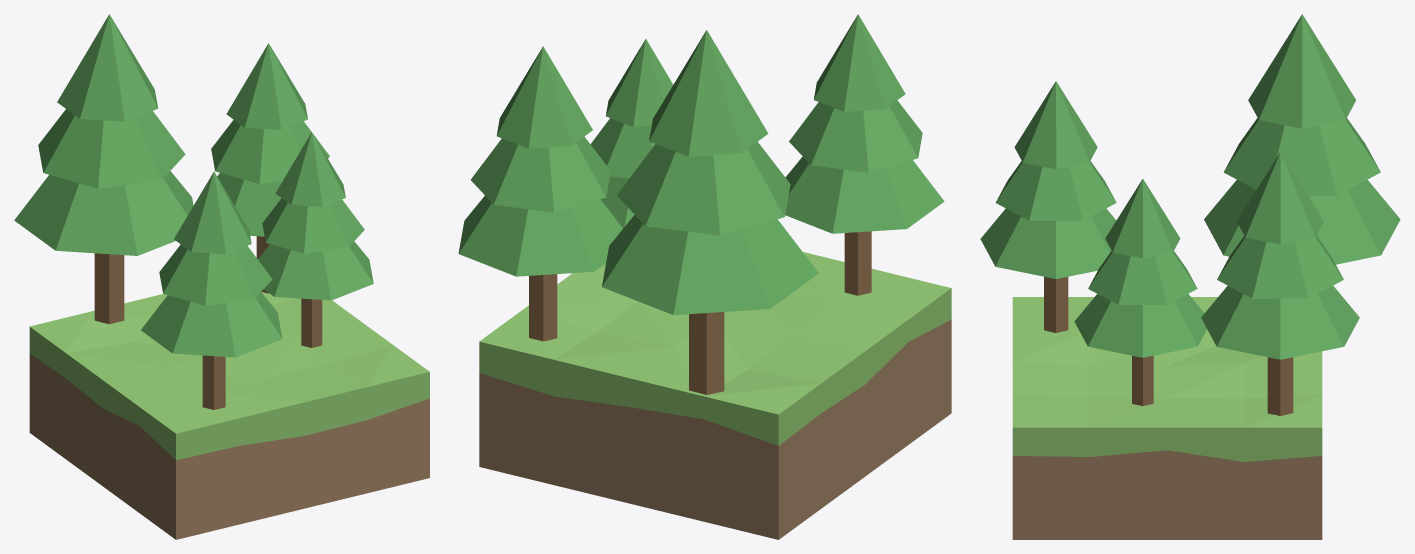
The model's file is GrassTile_Tree4.fbx.
3 views of the same model, side by side, from view 1: azimuth 30°, elevation 25°; view 2: azimuth 150°, elevation 25°; view 3: azimuth 270°, elevation 25° (orthographic). The views are drawn at different scales.
Parts seen in each view (by area): view 1: GrassTile_Tree4; view 2: GrassTile_Tree4; view 3: GrassTile_Tree4.
Part boxes in pixels (x1=…): GrassTile_Tree4: x1=14, y1=14, x2=429, y2=539; GrassTile_Tree4: x1=458, y1=14, x2=951, y2=539; GrassTile_Tree4: x1=980, y1=14, x2=1400, y2=539.
Size of the model in its own units: 1.14 by 1.54 by 1.36.
